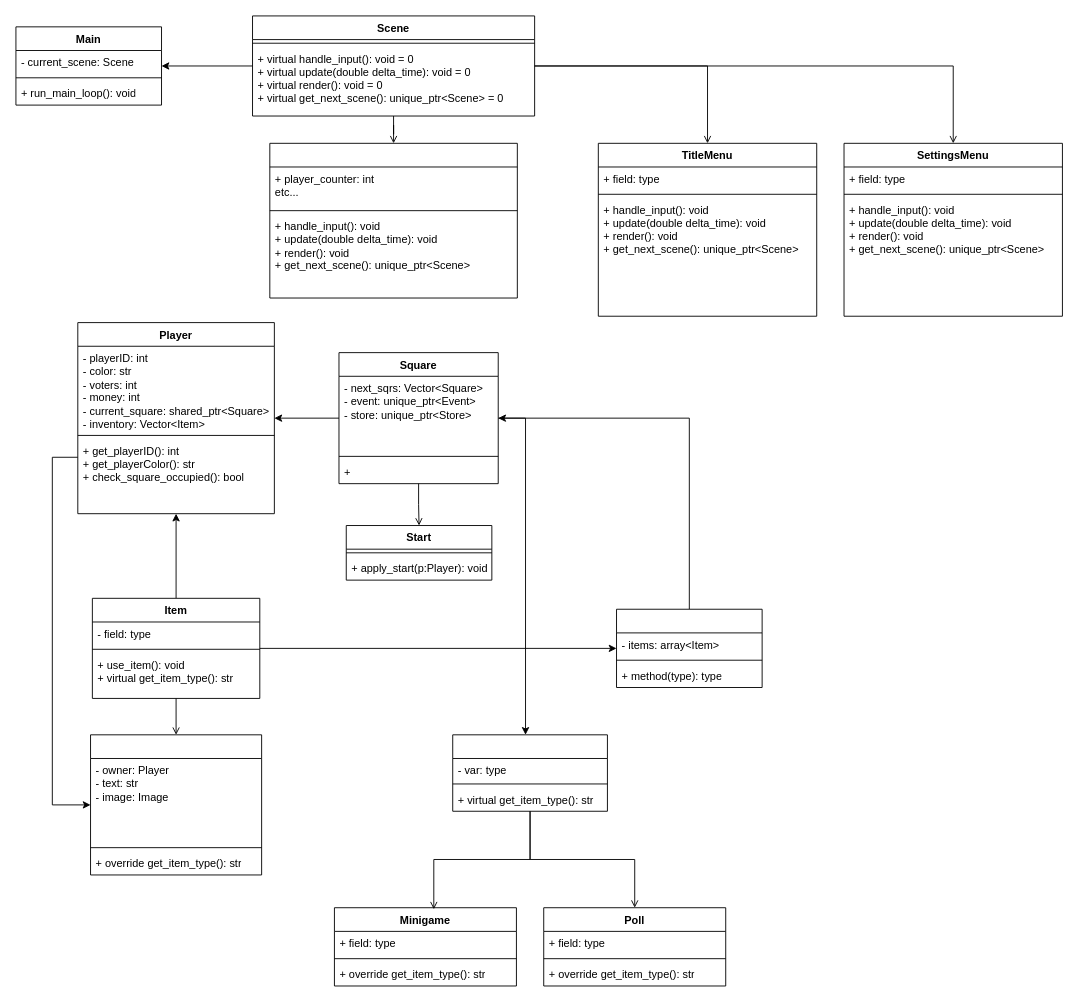
Image size: 1078x1005. Some labels were removed from this diagram. The shapes that lost their labels are listed below. From the top down, each one's box as (x1, y1, x2, y2) in pixels, then its label:
(269, 142, 517, 298): ClassicMode
(616, 608, 762, 688): Store
(452, 734, 607, 811): Event
(90, 734, 262, 875): Billboard
